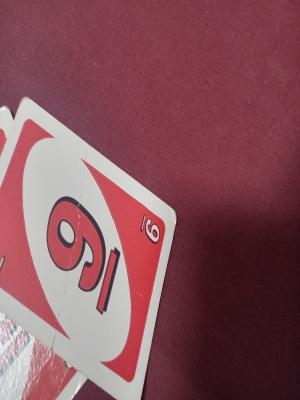num_9: (41, 190, 125, 328), (138, 206, 163, 250)
